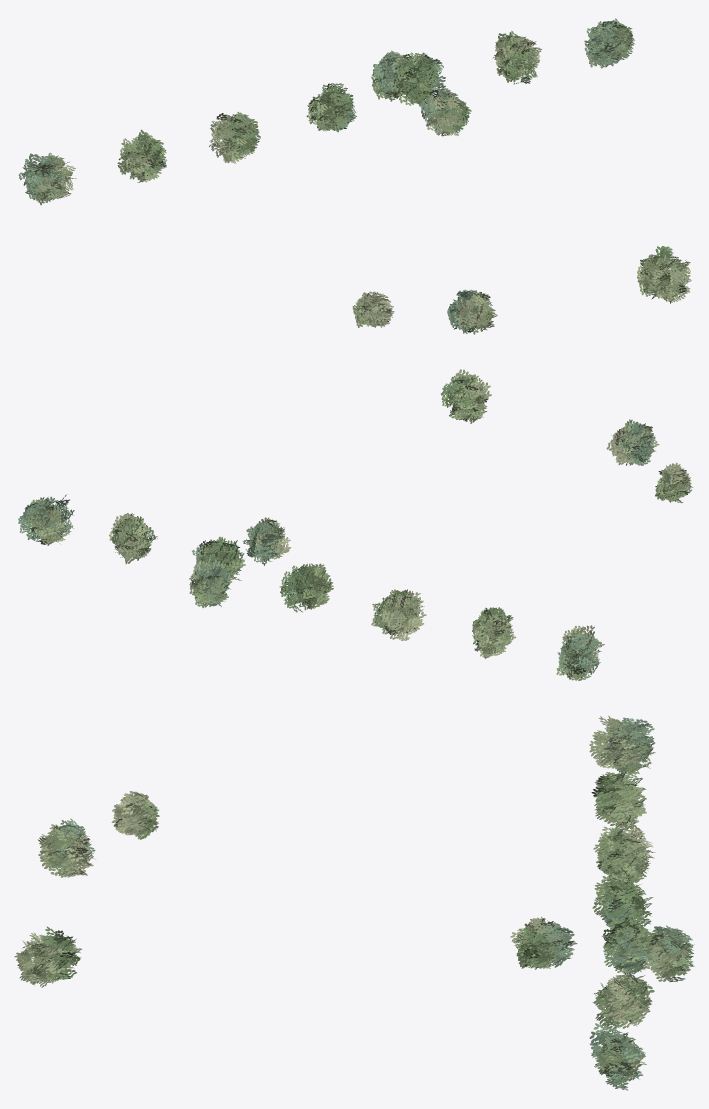
Rendered from campus-tree-0_-4-middle.glb.
3 renders of one model, top to bottom at view 1: azimuth 30°, elevation 25°; view 2: azimuth 150°, elevation 25°; view 3: azimuth 270°, elevation 25°, orthographic. The views are drawn at different scales.
Parts seen in each view (by area): view 1: Campus leaf canopy; view 2: Campus leaf canopy; view 3: Campus leaf canopy.
Part boxes in pixels (x1,y1,x2,y2): Campus leaf canopy: (18, 18, 691, 334); Campus leaf canopy: (18, 369, 692, 680); Campus leaf canopy: (14, 715, 694, 1090).
Bounding box in the file's own units: 73.52 × 7.34 × 61.7.
Materials: 1 (1 with a texture image).
